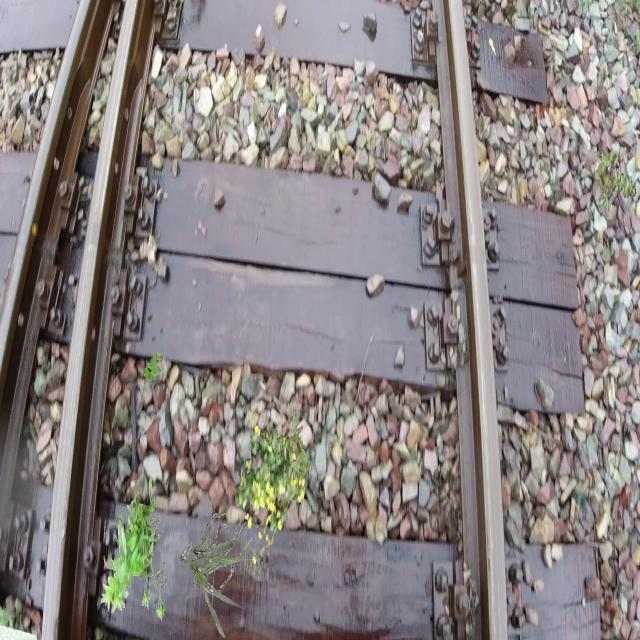Plant: (237, 425, 312, 565), (101, 478, 166, 622), (181, 513, 254, 638), (265, 409, 306, 481), (595, 147, 636, 218), (143, 351, 162, 384)
